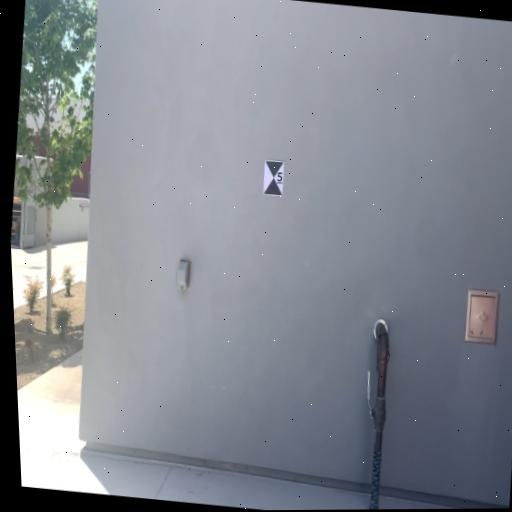target5: (262, 158, 287, 199)
